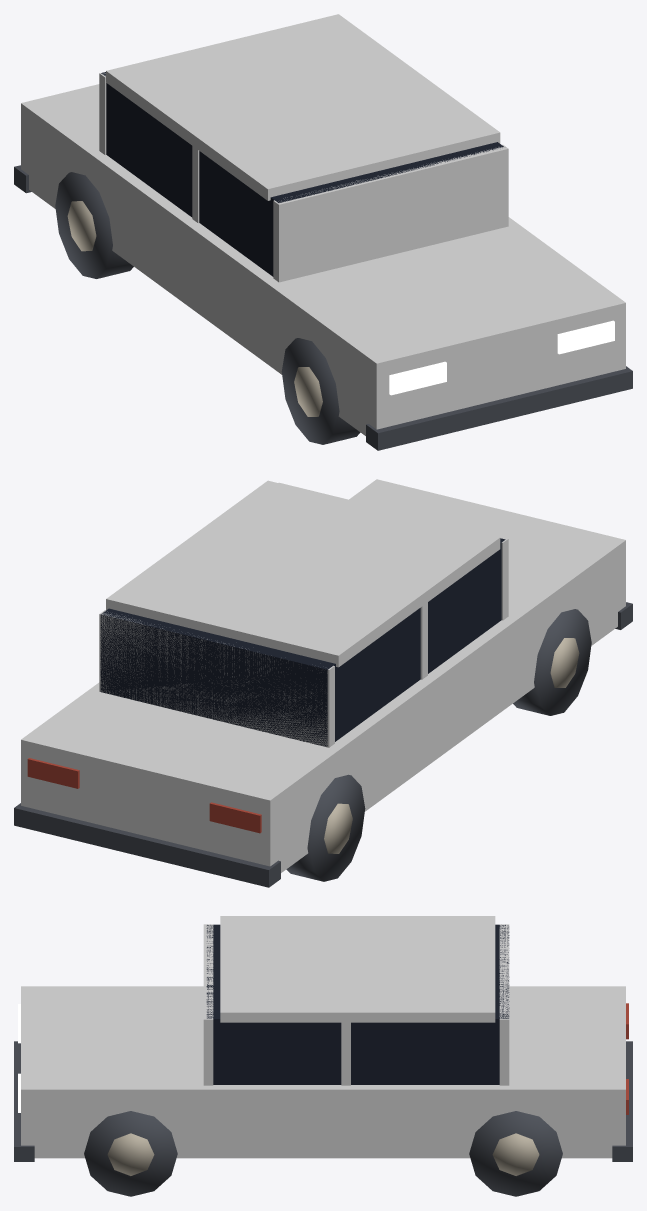
The model's file is cp_car.glb.
3 views of the same model, one above another, from view 1: azimuth 30°, elevation 25°; view 2: azimuth 150°, elevation 25°; view 3: azimuth 270°, elevation 25° (orthographic). The views are drawn at different scales.
Parts seen in each view (by area): view 1: city_cp_car; view 2: city_cp_car; view 3: city_cp_car.
Boxes of the visible parts, x1,y1,x2,y2 form: city_cp_car: (14,14,632,450); city_cp_car: (14,479,632,887); city_cp_car: (14,916,632,1196).
Size of the model in its own units: 1.84 by 1.44 by 4.5.
Materials: 2 (1 with a texture image).
